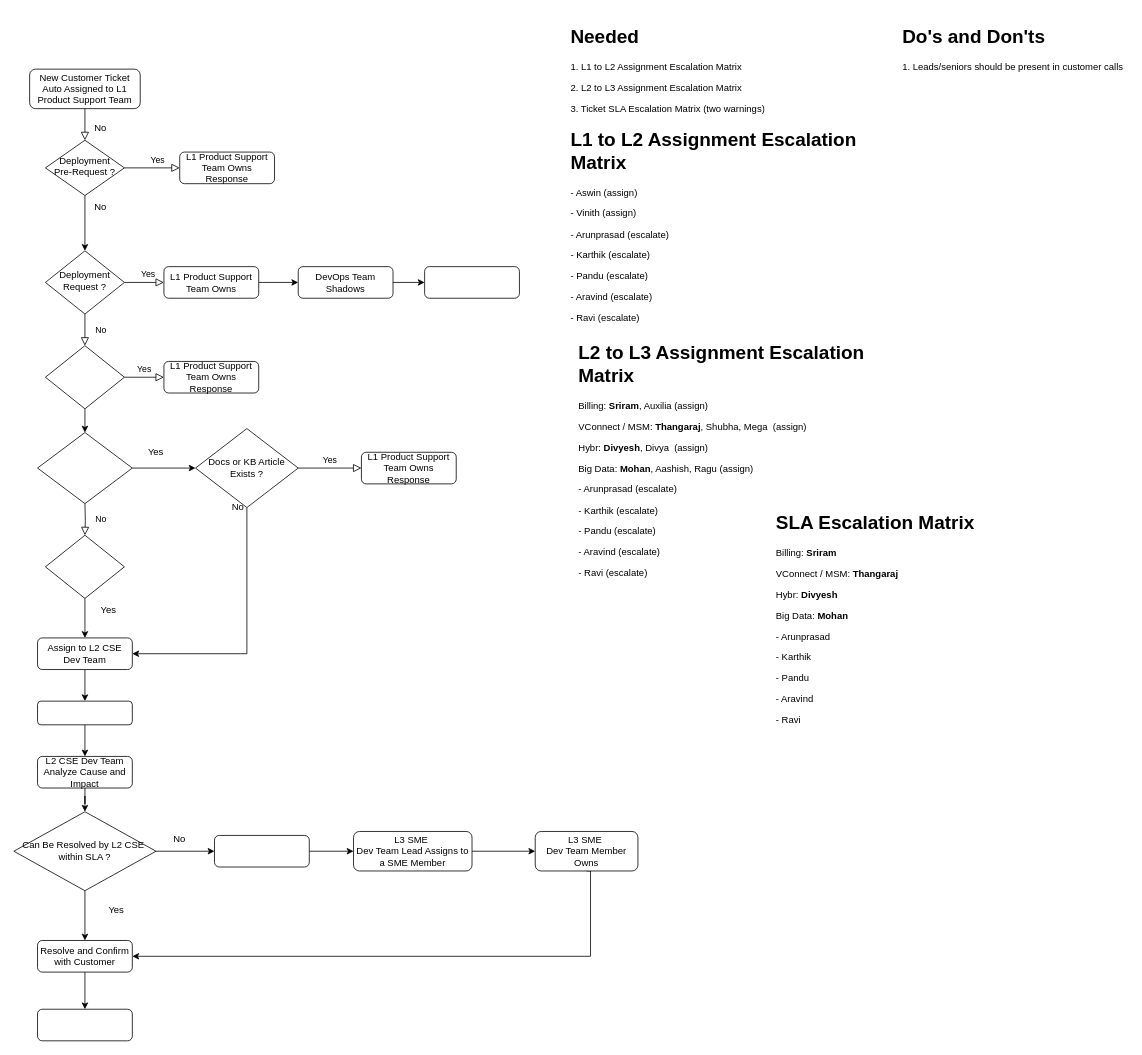
Some shapes in this 1142 by 1055 pixel diagram are drawn without their labels. The box of each missing label's shape, as (x1, y1, x2, y2) in pixels:
Assign to L3 SME Dev Team Lead: (214, 835, 309, 867)
Create KB Article and update Docs: (37, 1008, 132, 1041)
L1 Product Support Team uses Tools from DevOps Team: (424, 266, 519, 298)
L2 CSE Dev Team Owns: (37, 700, 132, 725)
License Upgrade Request ?: (45, 345, 124, 409)
Product Issue ?: (45, 534, 124, 598)
Product Query ?: (37, 432, 132, 504)
